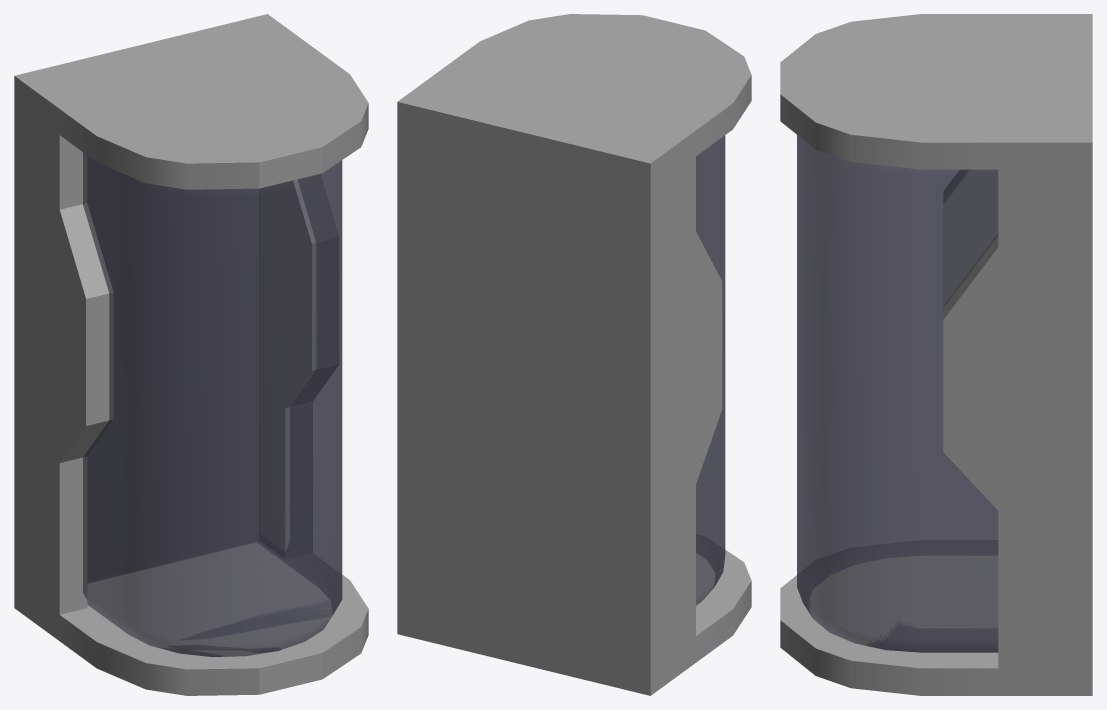
File: Environment_Tube_003_Blockout.fbx
3 views of the same model, side by side, from view 1: azimuth 30°, elevation 25°; view 2: azimuth 150°, elevation 25°; view 3: azimuth 270°, elevation 25° (orthographic). The views are drawn at different scales.
Parts seen in each view (by area): view 1: polySurface38; view 2: polySurface38; view 3: polySurface38.
Boxes of the visible parts, x1=… form: polySurface38: x1=14, y1=14, x2=368, y2=695; polySurface38: x1=397, y1=14, x2=751, y2=695; polySurface38: x1=780, y1=14, x2=1092, y2=695.
Bounding box in the file's own units: 153 × 308 × 157.
